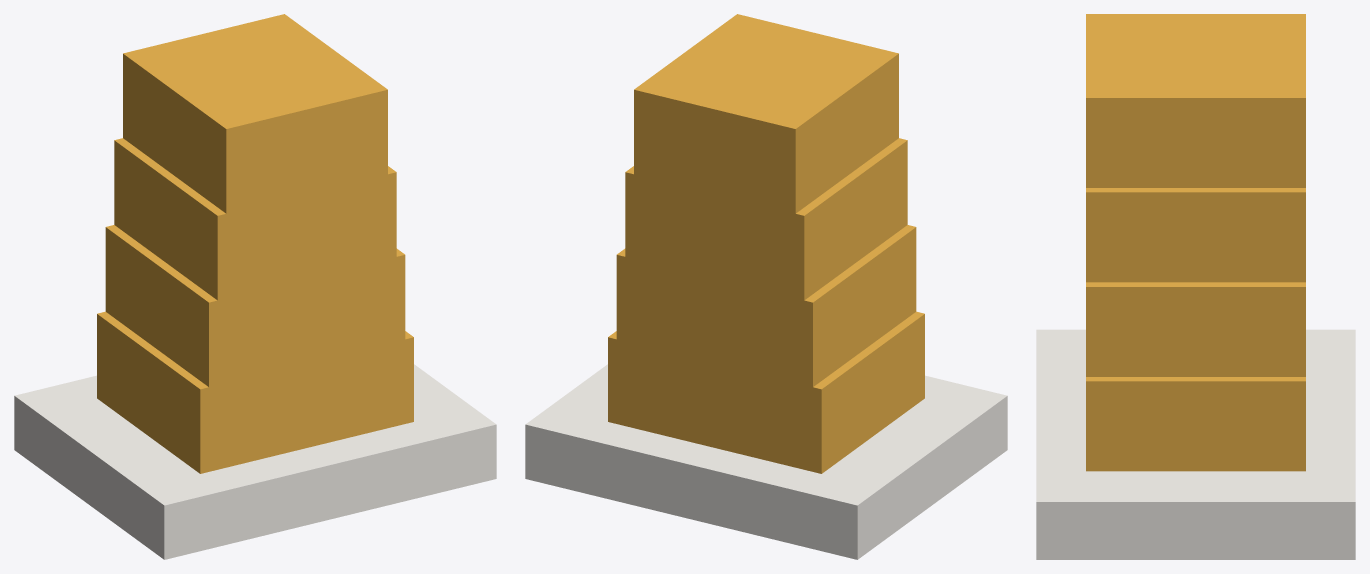
File: kitchen_table-lv4.glb
The picture shows the model from 3 angles, left to right: view 1: azimuth 30°, elevation 25°; view 2: azimuth 150°, elevation 25°; view 3: azimuth 270°, elevation 25°; orthographic projection. The views are drawn at different scales.
Parts seen in each view (by area): view 1: Base, Level4, Level1, Level2, Level3; view 2: Base, Level4, Level1, Level2, Level3; view 3: Base, Level4, Level1, Level2, Level3.
Part boxes in pixels (box(x1,y1,x2,y2)): Base: box(14, 364, 496, 559); Level4: box(123, 14, 387, 213); Level1: box(97, 311, 413, 473); Level2: box(105, 225, 405, 387); Level3: box(114, 138, 396, 300); Base: box(525, 364, 1007, 559); Level4: box(634, 14, 898, 213); Level1: box(608, 311, 924, 473); Level2: box(616, 225, 916, 387); Level3: box(625, 138, 907, 300); Base: box(1036, 329, 1355, 559); Level4: box(1086, 14, 1305, 187); Level1: box(1086, 377, 1305, 471); Level2: box(1086, 282, 1305, 376); Level3: box(1086, 188, 1305, 282).
Size of the model in its own units: 1.15 by 1.3 by 0.9.
